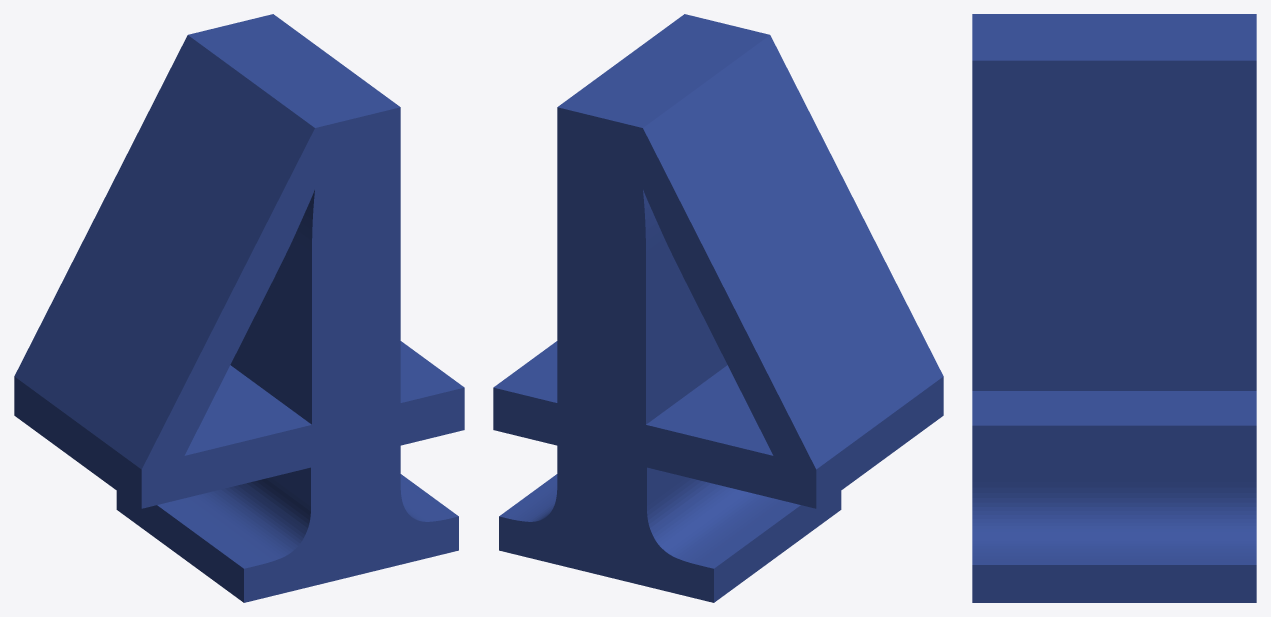
The model's file is tinker.obj.
The picture shows the model from 3 angles, left to right: view 1: azimuth 30°, elevation 25°; view 2: azimuth 150°, elevation 25°; view 3: azimuth 270°, elevation 25°; orthographic projection. The views are drawn at different scales.
Parts seen in each view (by area): view 1: obj_0; view 2: obj_0; view 3: obj_0.
Part boxes in pixels (left/top/right/bottom): obj_0: left=14, top=14, right=464, bottom=602; obj_0: left=493, top=14, right=943, bottom=602; obj_0: left=972, top=14, right=1256, bottom=602.
Bounding box in the file's own units: 81.9 × 111 × 55.94.
